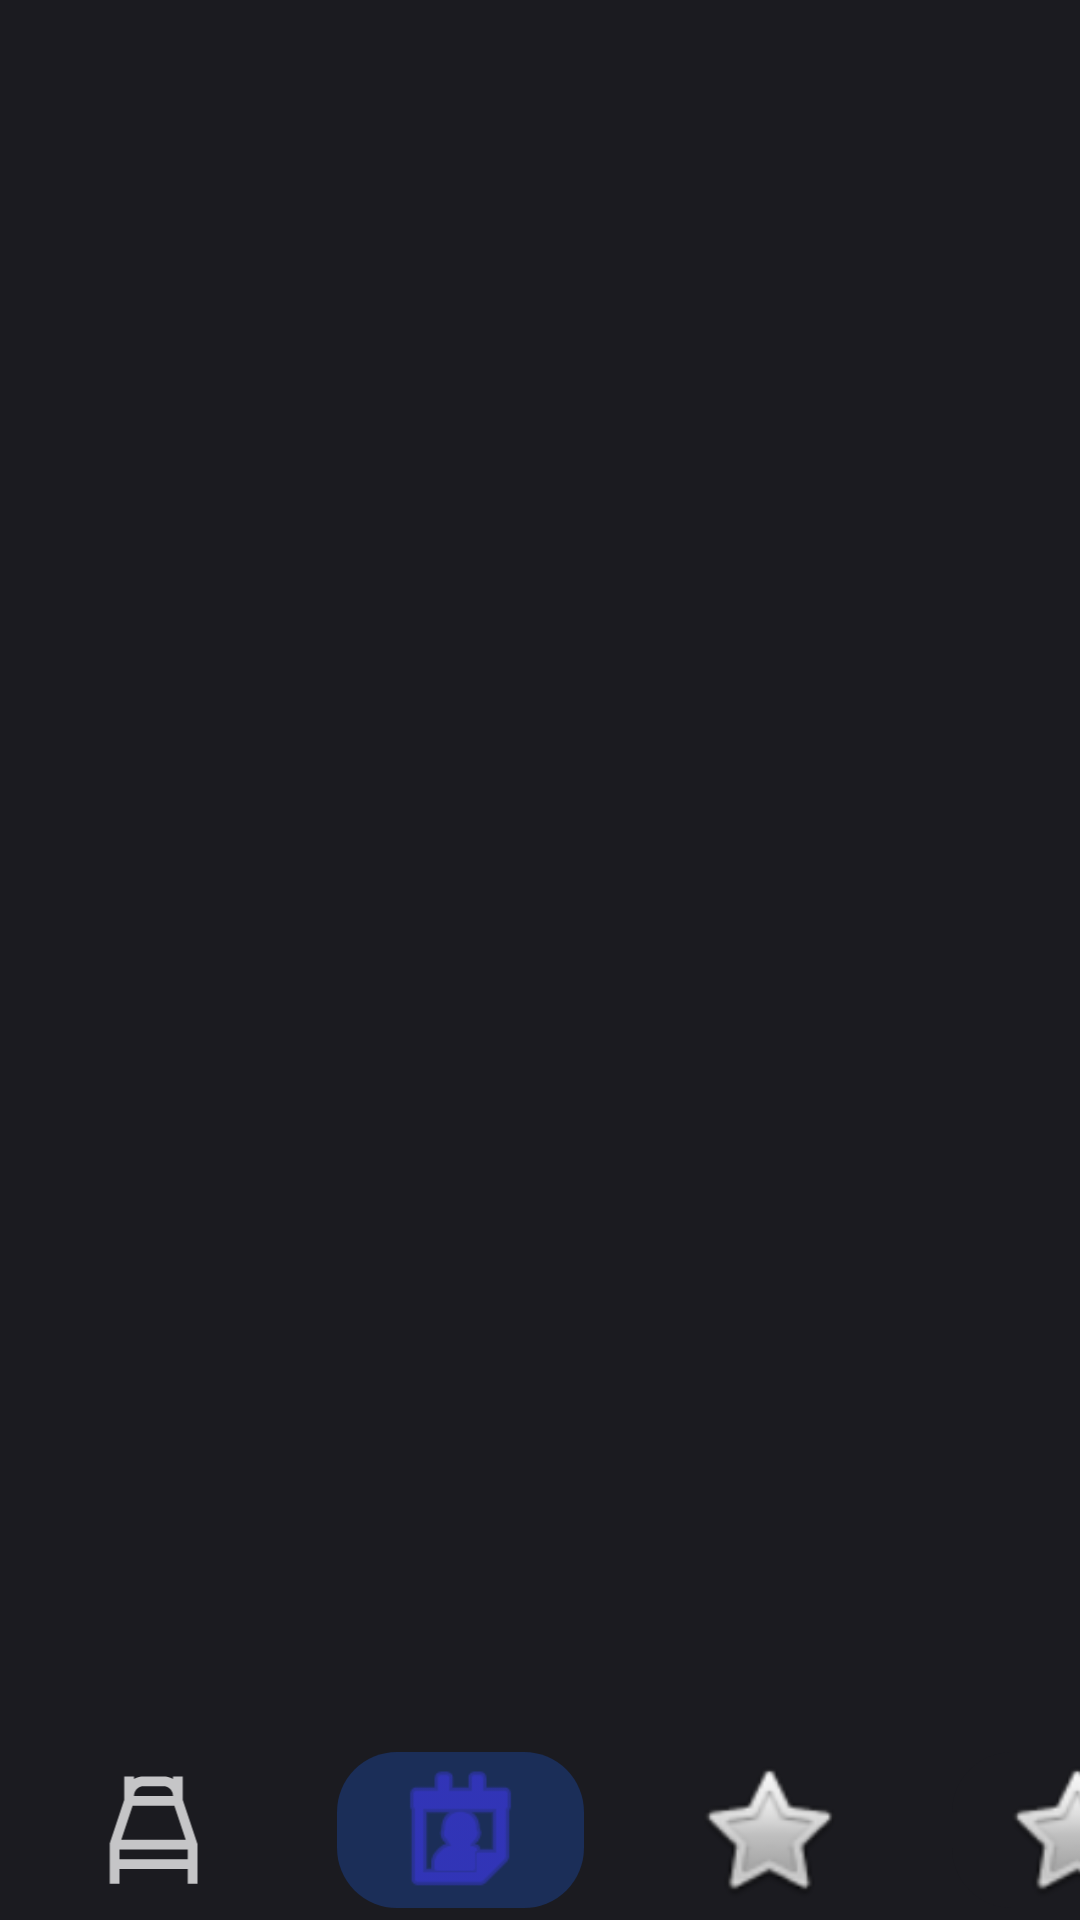

Screen size 1080 x 1920. Icon name, then its box in pixels as (x1, y1, x2, y2):
bed: (109, 1776, 198, 1884)
calendar: (337, 1752, 584, 1908)
